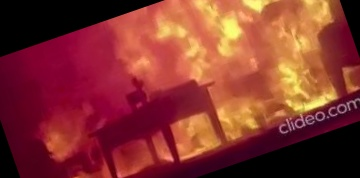fire: (9, 0, 360, 178)
